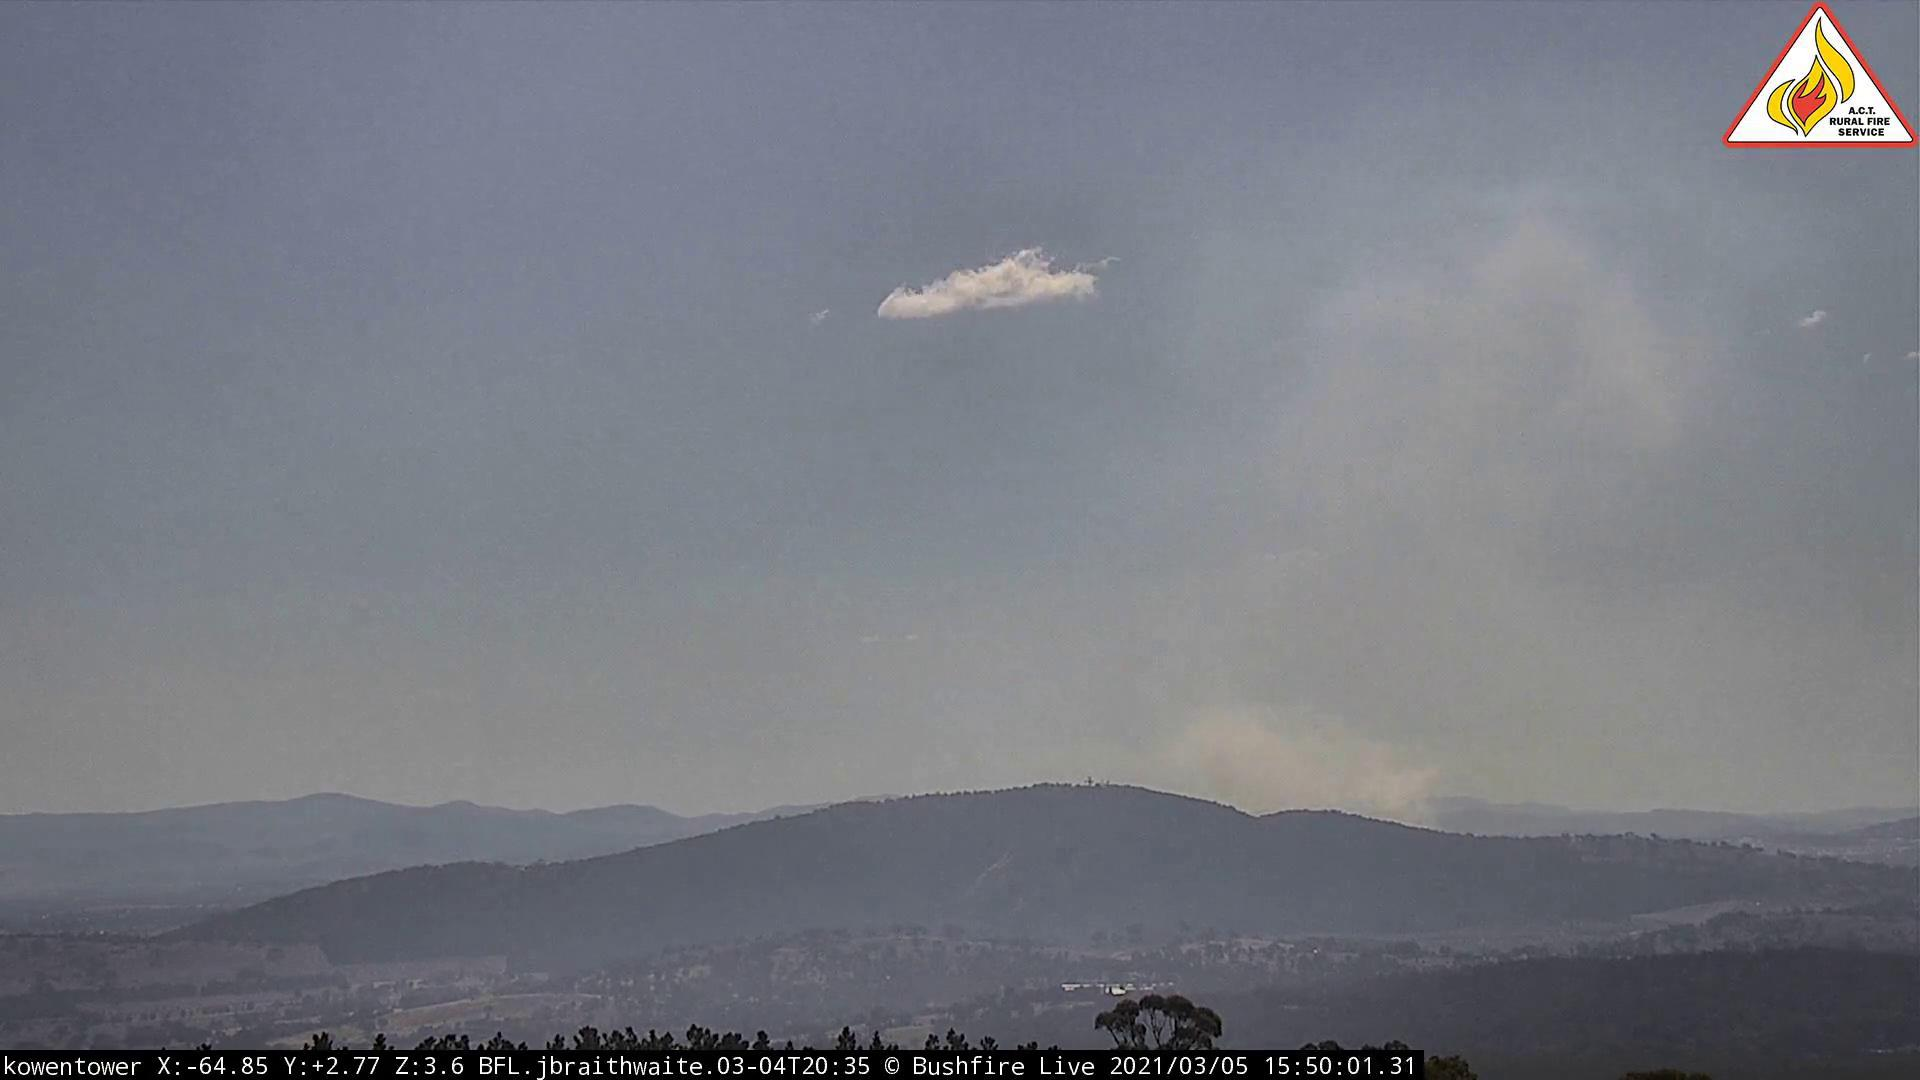Smoke: (1120, 162, 1859, 851)
